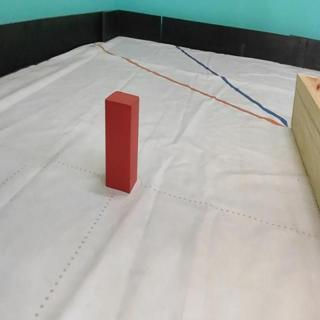redbox: (105, 90, 140, 194)
